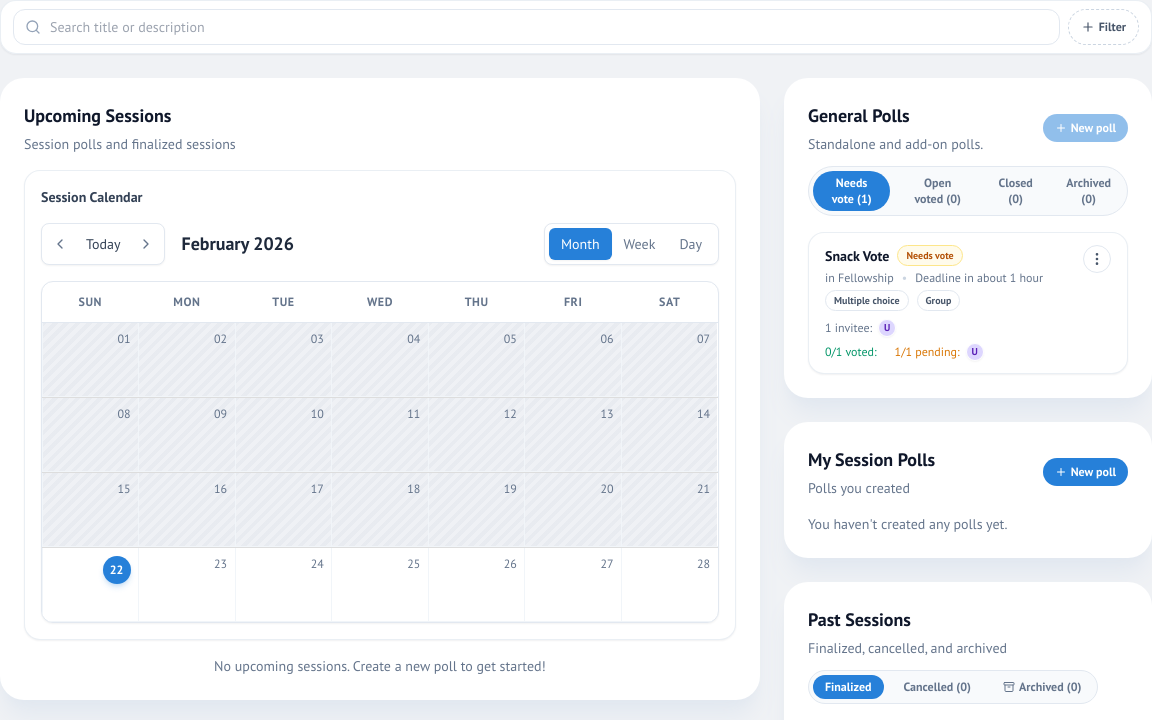
DashboardPage pending invite actions › opens group poll in dashboard modal on desktop
The width and height of the screenshot is (1152, 720).
Click the button with aria-label "Vote: Snack Vote": [857, 256] box [808,232,1128,374]
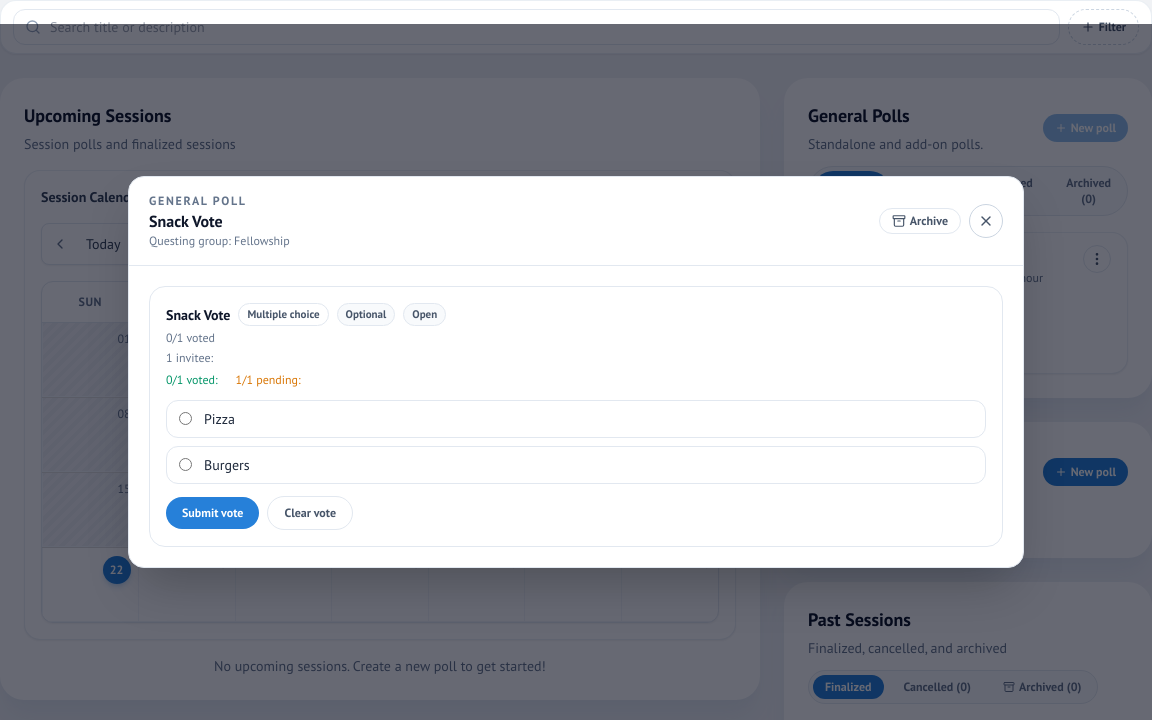
Expected: the text "Questing group: Fellowship" is shown, [149,233,290,249]
Expected: the button named "Close general poll modal" is shown, [969,204,1003,238]
